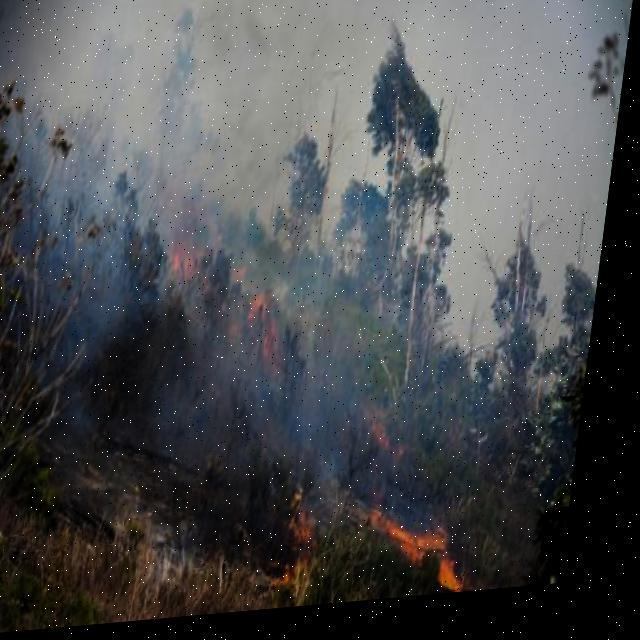Fire: (170, 227, 303, 387), (370, 502, 486, 606), (285, 496, 336, 597)
